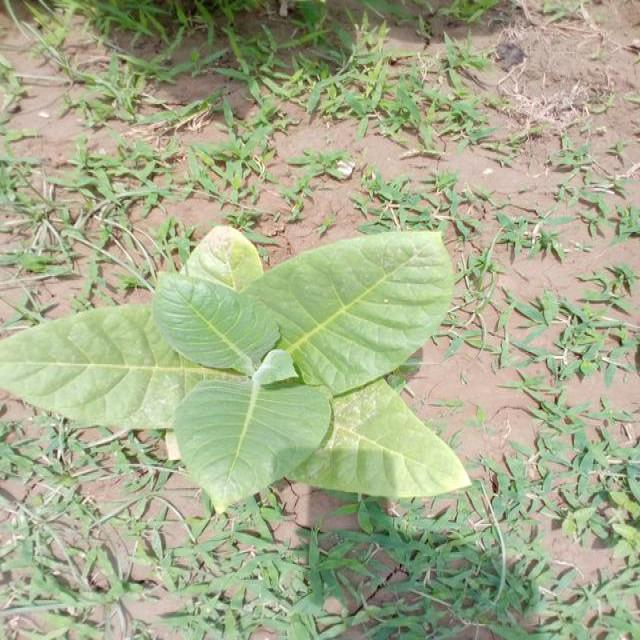crop: (0, 224, 473, 512)
